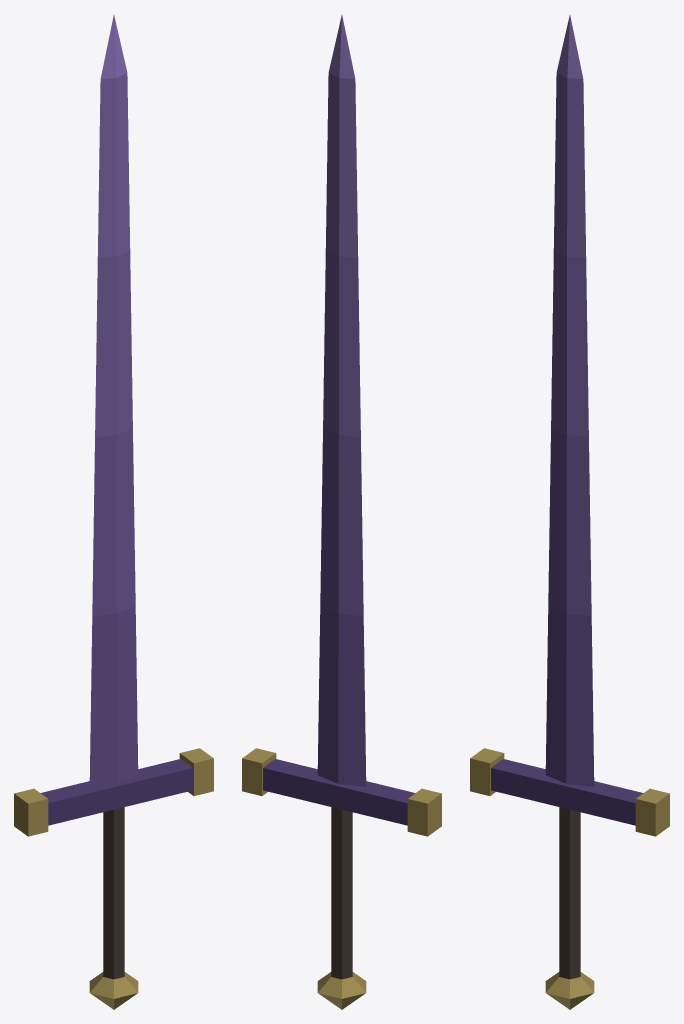
The model's file is sword_great_runic_s1052.glb.
3 renders of one model, left to right at view 1: azimuth 30°, elevation 25°; view 2: azimuth 150°, elevation 25°; view 3: azimuth 330°, elevation 25°, orthographic.
Parts seen in each view (by area): view 1: sword_great_runic_s1052; view 2: sword_great_runic_s1052; view 3: sword_great_runic_s1052.
Part boxes in pixels (x1,y1,x2,y2): sword_great_runic_s1052: (14, 15, 213, 1009); sword_great_runic_s1052: (242, 15, 441, 1009); sword_great_runic_s1052: (470, 15, 669, 1009).
Size of the model in its own units: 0.2596 by 1.33 by 0.0589.
Materials: 1 (1 with a texture image).
